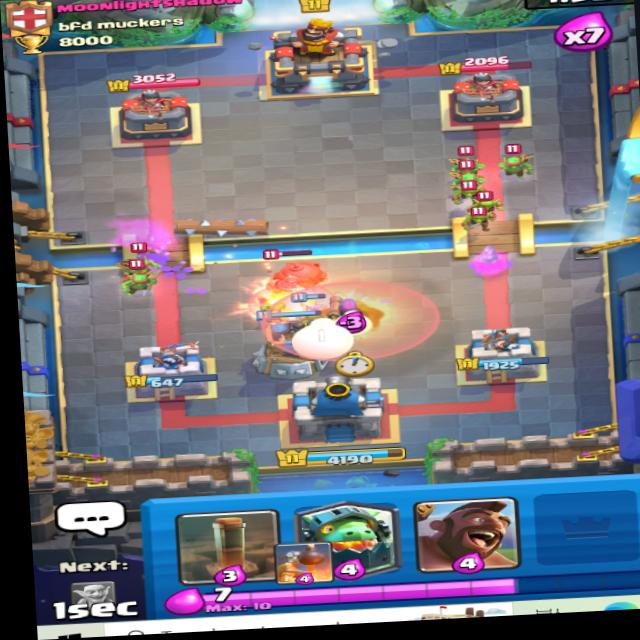Goblin: (453, 204, 501, 235), (467, 190, 511, 215)
Mightyminer: (249, 240, 344, 321)
Speargoblin: (120, 245, 157, 279), (503, 147, 542, 178), (117, 268, 152, 299), (448, 167, 490, 189), (446, 151, 482, 175)
